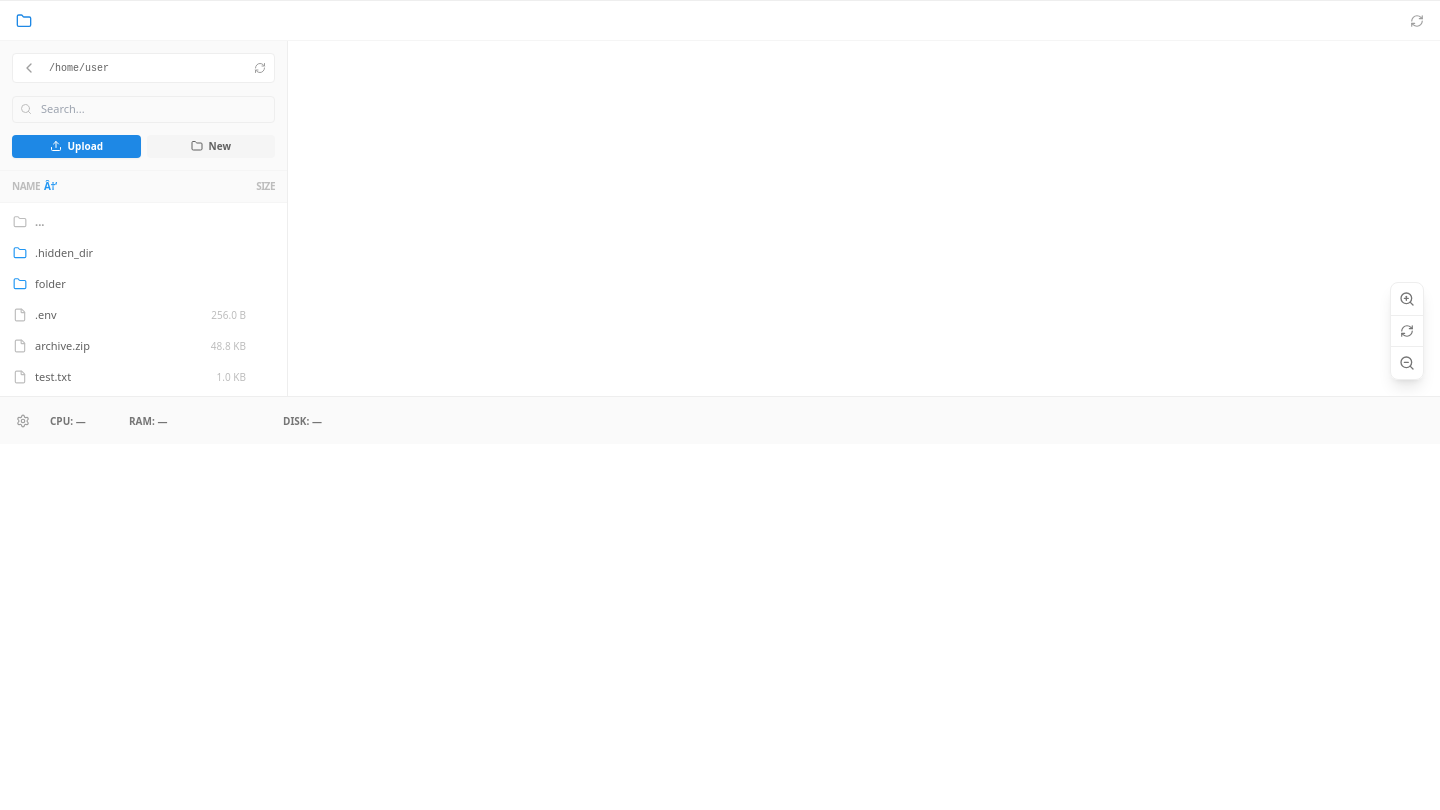
Test case: SSHSessionView Component › adjusts context menu position to prevent bottom cut-offs
Expected: the text "test.txt" is shown, [35,369,71,384]
// Test explorer context menu near the bottom
Right-click the button "Name â†‘": x=112, y=186 [12,178,211,194]
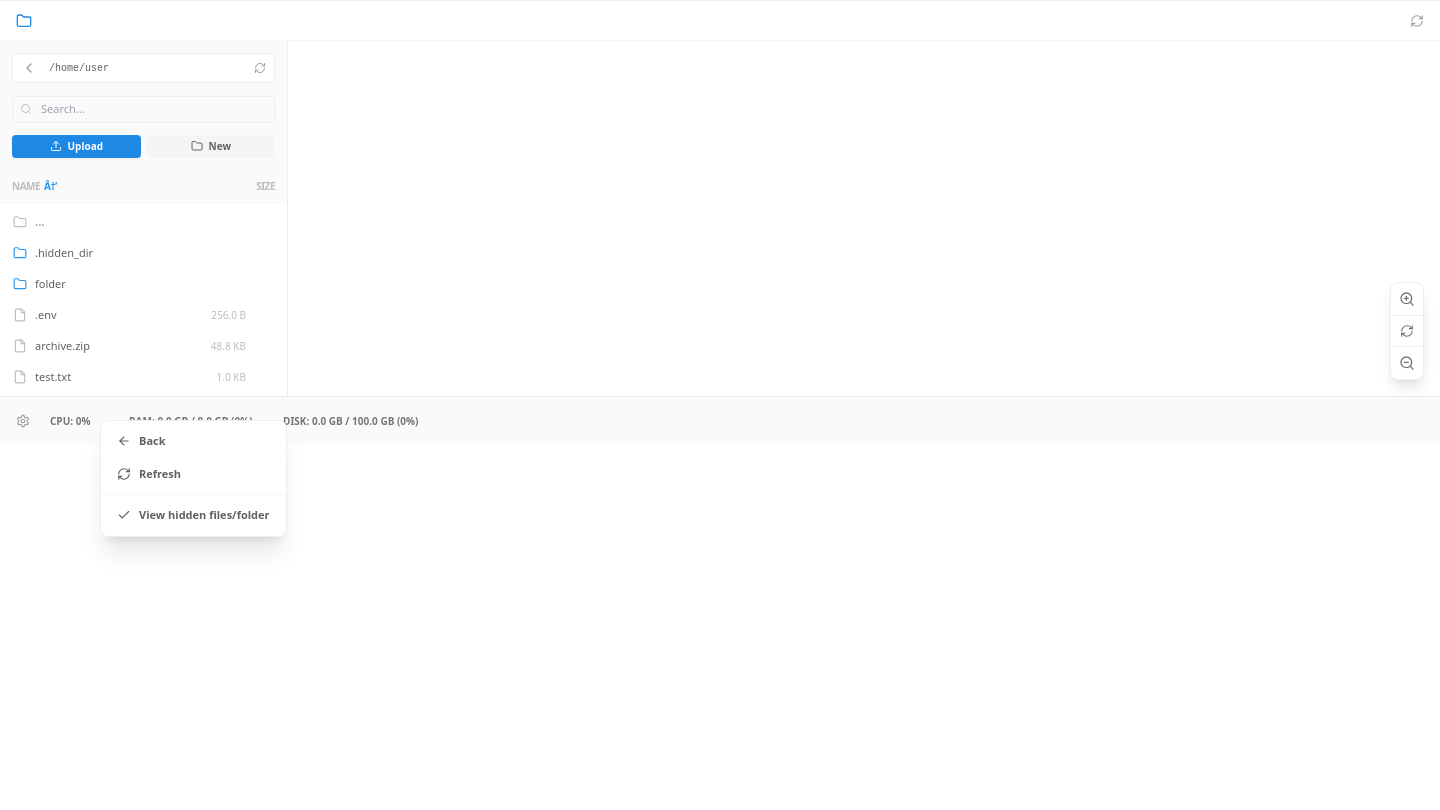
Result: the text "View hidden files/folder" is shown at [101,499,286,532]
// Close menu by clicking
Click the element that starts with "Upload": x=720, y=761 [0,0,1439,809]
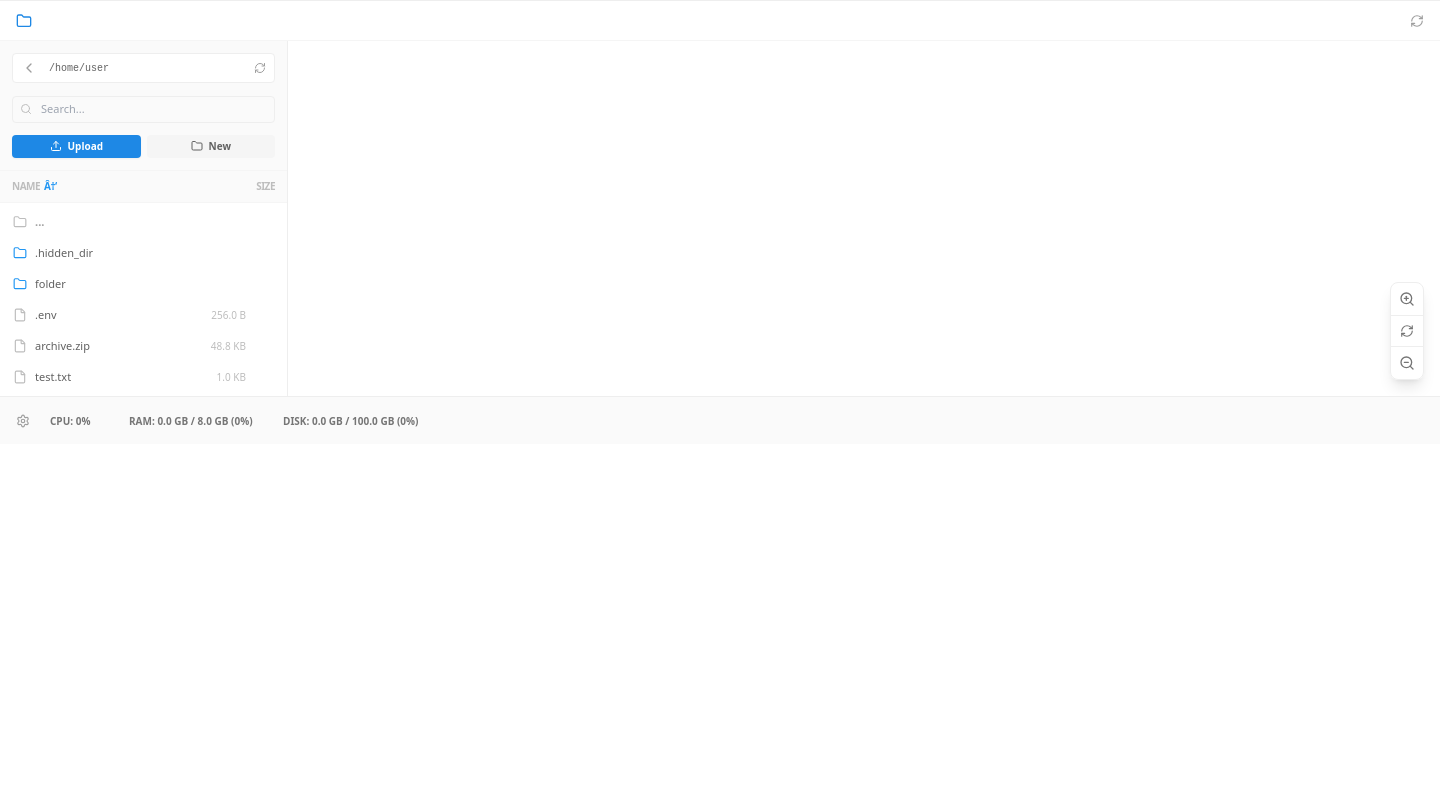
// Test file context menu near the bottom
Right-click the text "test.txt": x=53, y=376 [35,369,71,384]
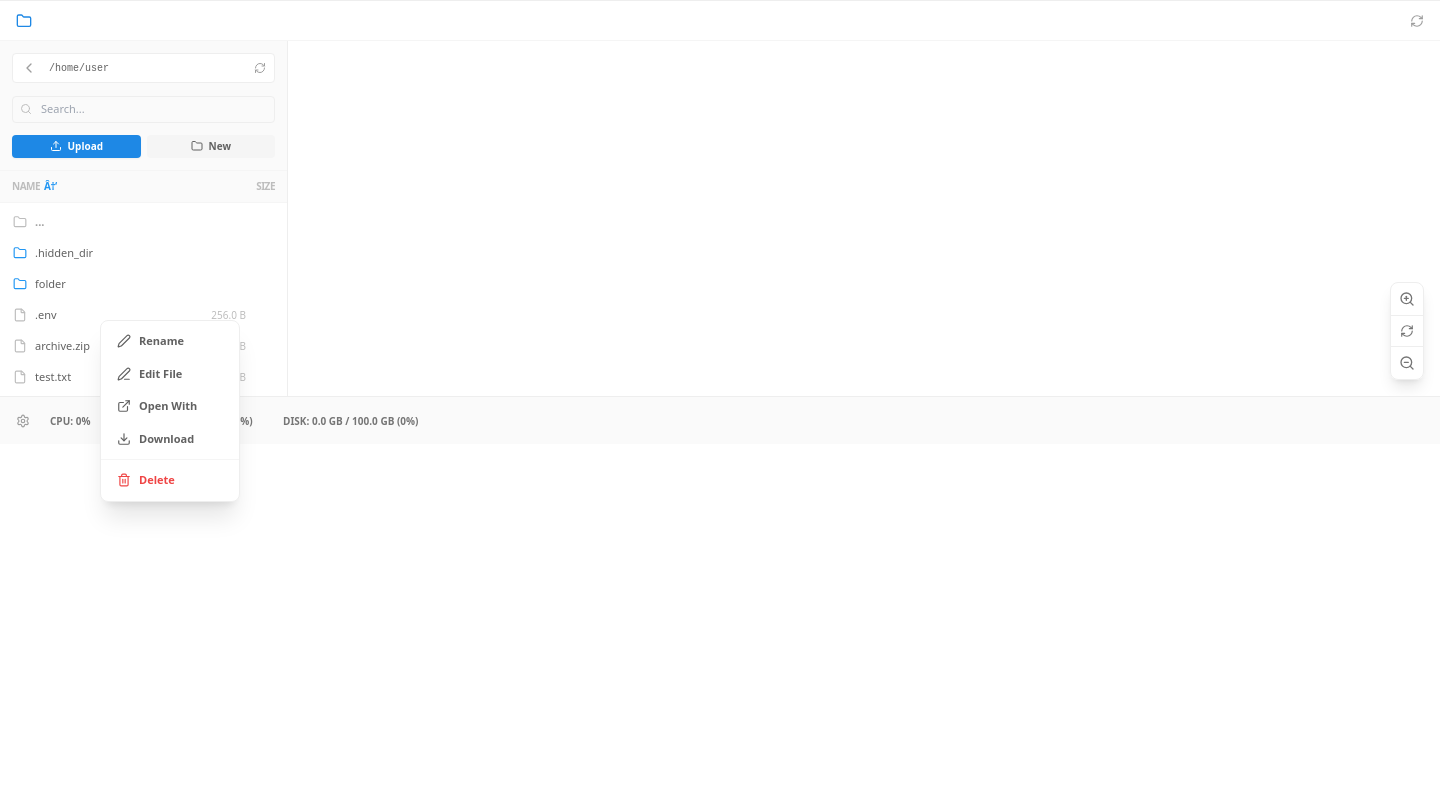
Result: the text "Rename" is shown at [101,325,239,358]
